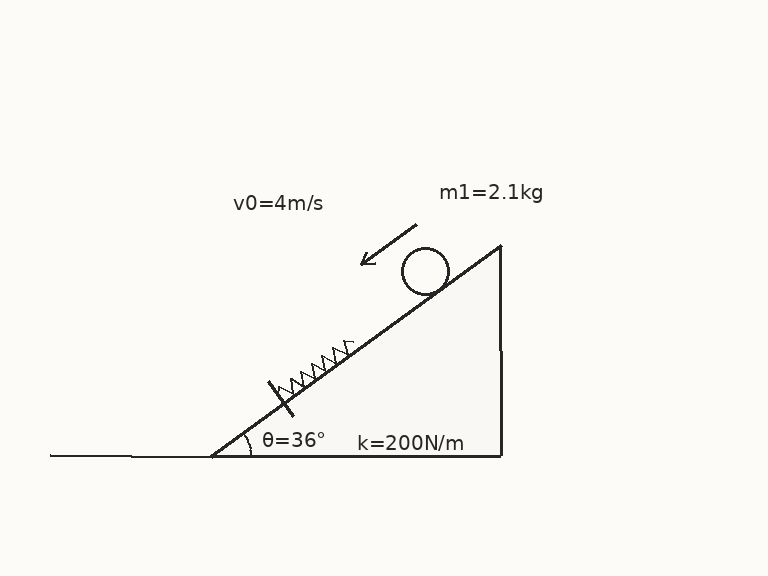ball: (399, 245, 451, 297)
ramp: (209, 243, 503, 458)
spring: (276, 337, 356, 398)
